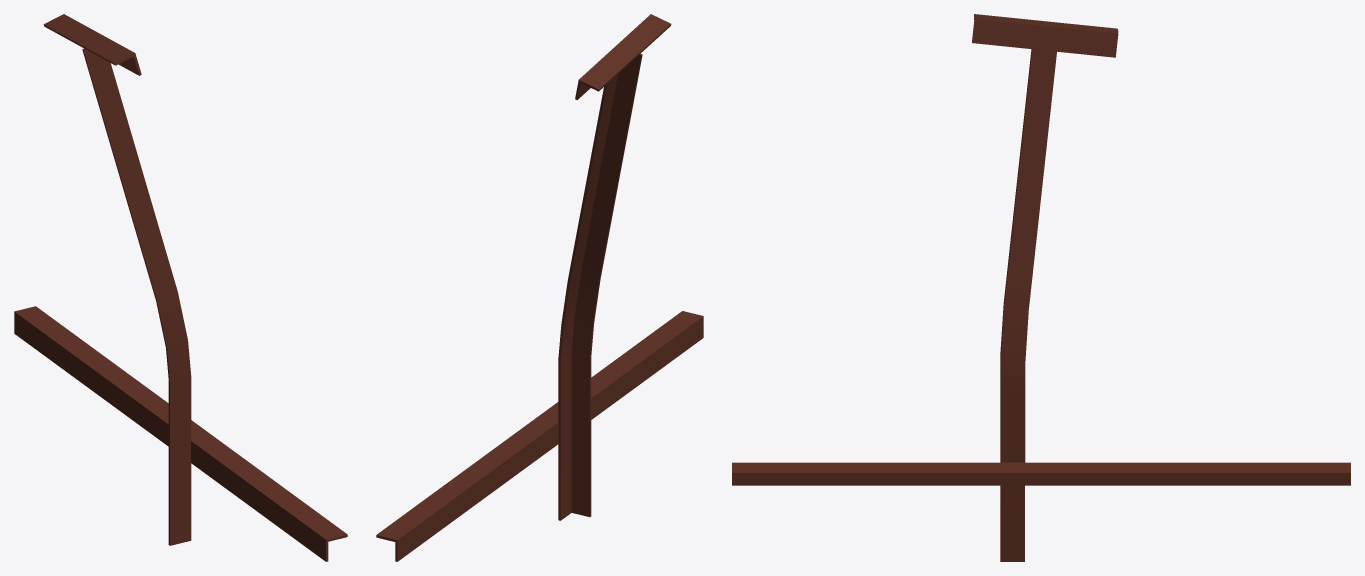
Rendered from traverse-twisted-10.FBX.
3 renders of one model, left to right at view 1: azimuth 30°, elevation 25°; view 2: azimuth 150°, elevation 25°; view 3: azimuth 270°, elevation 25°, orthographic.
Visible parts, largest first — view 1: Travers_Dis; view 2: Travers_Dis; view 3: Travers_Dis.
Boxes of the visible parts, x1,y1,x2,y2 form: Travers_Dis: (14, 14, 347, 561); Travers_Dis: (376, 14, 703, 561); Travers_Dis: (732, 14, 1350, 561).
Size of the model in its own units: 0.4151 by 1.82 by 2.
